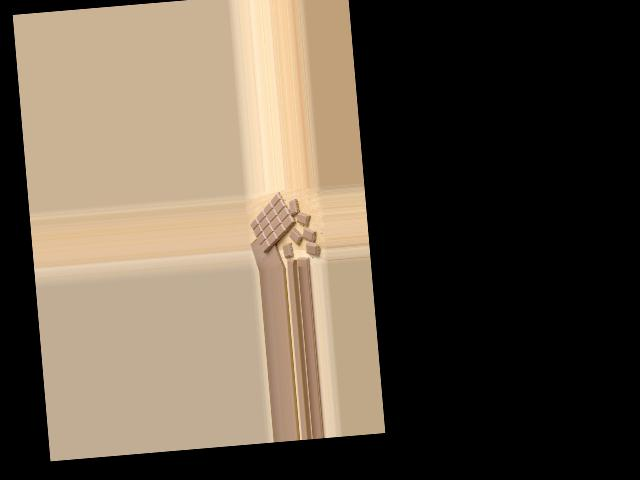chocolate: (248, 192, 300, 253)
